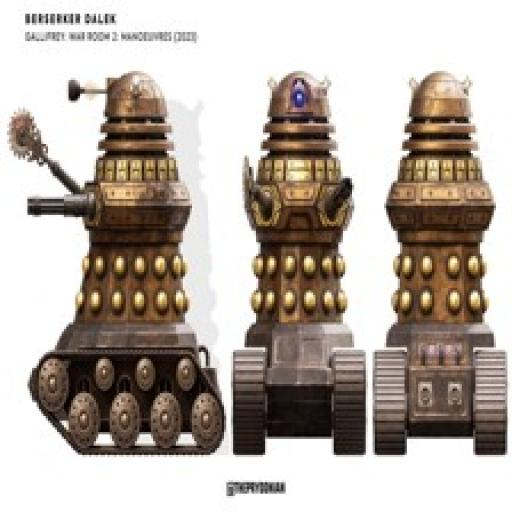dalek: (5, 69, 225, 460), (371, 68, 506, 456), (232, 69, 366, 454)
